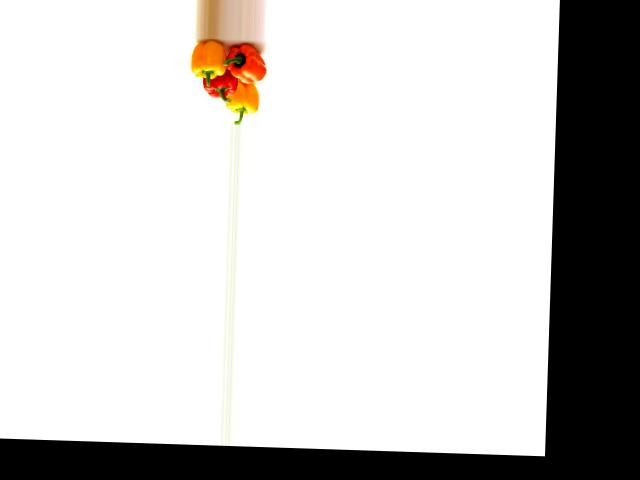bell_pepper: (189, 39, 237, 86)
